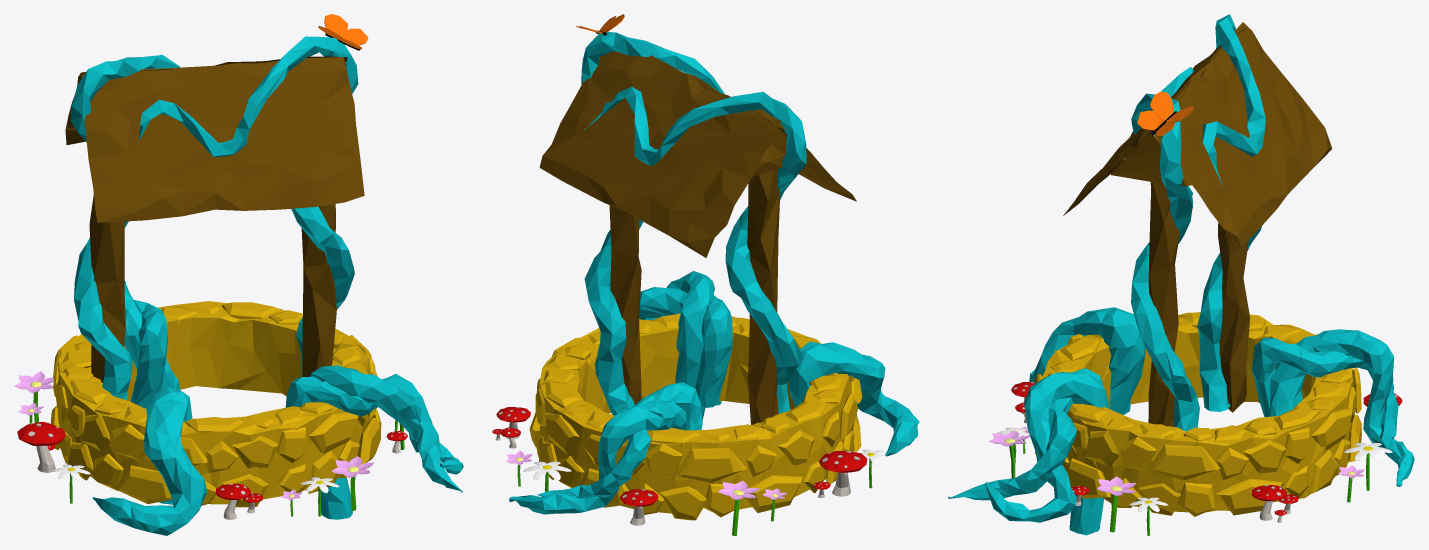
The model's file is stm_prop_NewDreamWell.fbx.
3 views of the same model, side by side, from view 1: azimuth 30°, elevation 25°; view 2: azimuth 150°, elevation 25°; view 3: azimuth 270°, elevation 25° (orthographic).
Parts seen in each view (by area): view 1: Well; view 2: Well; view 3: Well.
Part boxes in pixels (bbox=[...]): Well: bbox=[14, 14, 463, 535]; Well: bbox=[492, 14, 919, 535]; Well: bbox=[948, 14, 1414, 535].
Size of the model in its own units: 521 by 637 by 600.
